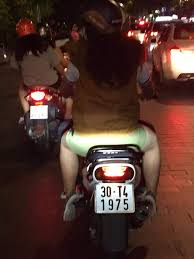bien_so: (92, 180, 137, 215), (28, 104, 51, 122)
